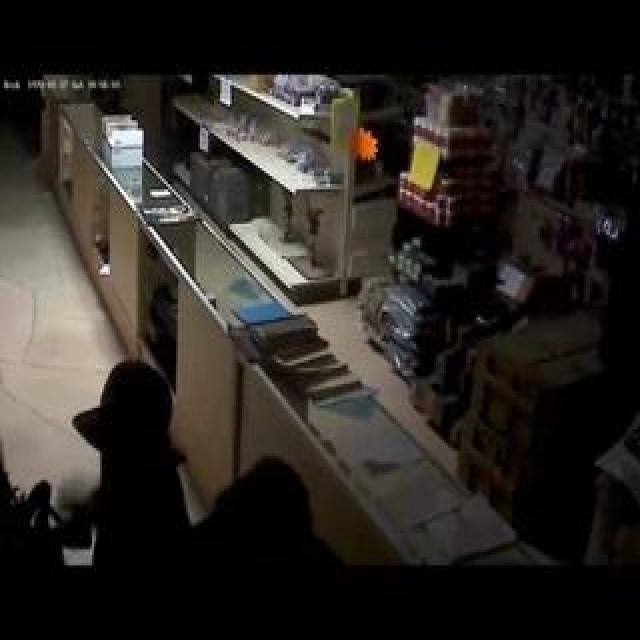thief: (96, 347, 183, 526)
